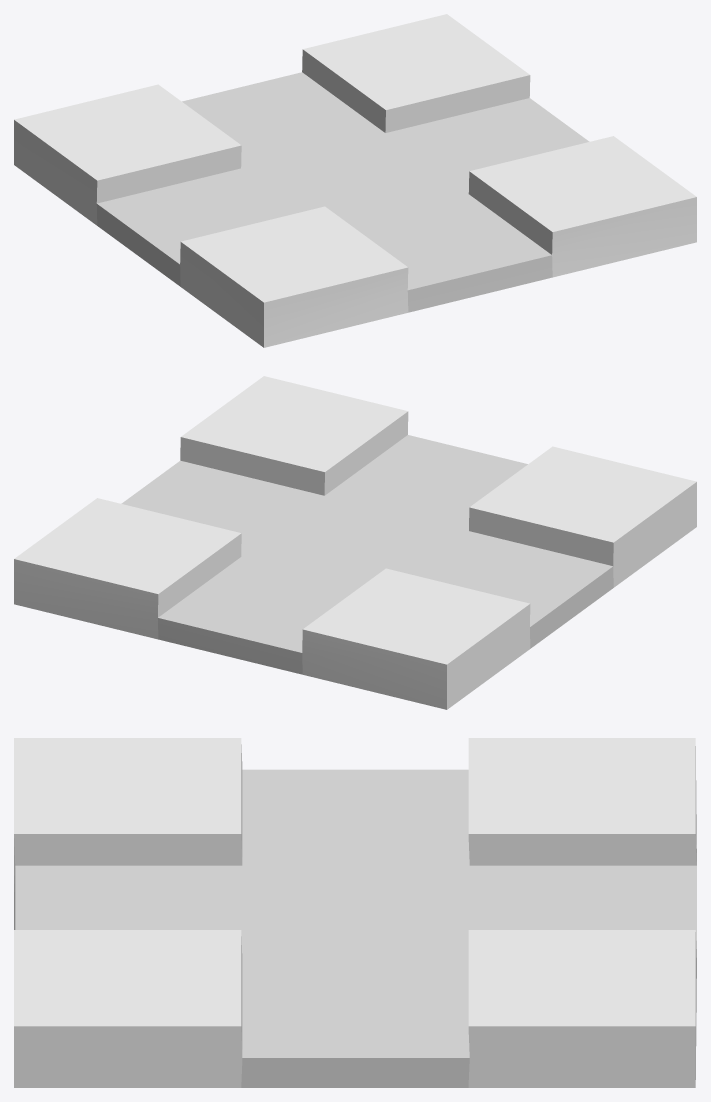
File: ForestRiverCrossing.fbx
3 renders of one model, top to bottom at view 1: azimuth 30°, elevation 25°; view 2: azimuth 150°, elevation 25°; view 3: azimuth 270°, elevation 25°, orthographic. The views are drawn at different scales.
Visible parts, largest first — view 1: ForestCrossing_01; view 2: ForestCrossing_01; view 3: ForestCrossing_01.
Part boxes in pixels (x1,y1,x2,y2): ForestCrossing_01: (14, 14, 696, 347); ForestCrossing_01: (14, 376, 696, 709); ForestCrossing_01: (14, 738, 696, 1087).
Bounding box in the file's own units: 100 × 10 × 100.
